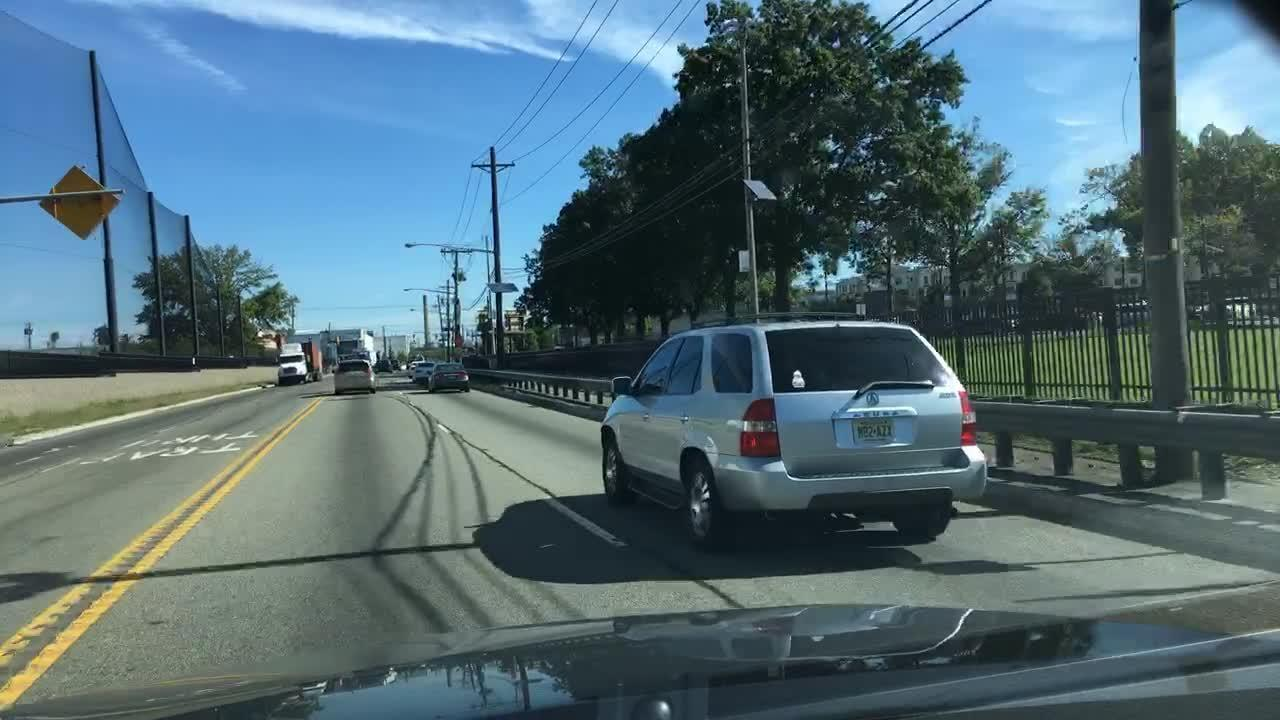acura: (861, 386, 884, 412)
